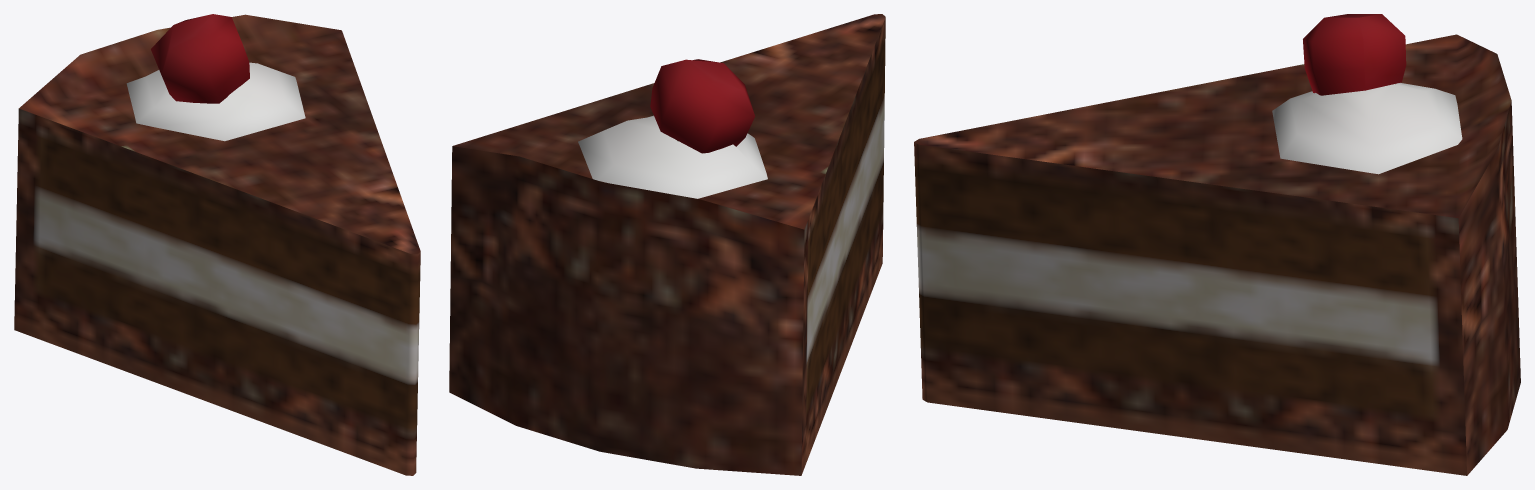
File: Sapph_CakeSliceCherry.fbx
3 views of the same model, side by side, from view 1: azimuth 30°, elevation 25°; view 2: azimuth 150°, elevation 25°; view 3: azimuth 270°, elevation 25° (orthographic). The views are drawn at different scales.
Visible parts, largest first — view 1: CakeSlice_Icing; view 2: CakeSlice_Icing; view 3: CakeSlice_Icing.
Boxes of the visible parts, x1,y1,x2,y2 form: CakeSlice_Icing: [14, 14, 420, 475]; CakeSlice_Icing: [449, 14, 885, 475]; CakeSlice_Icing: [914, 14, 1520, 475].
Bounding box in the file's own units: 12.65 × 12.13 × 17.75.
